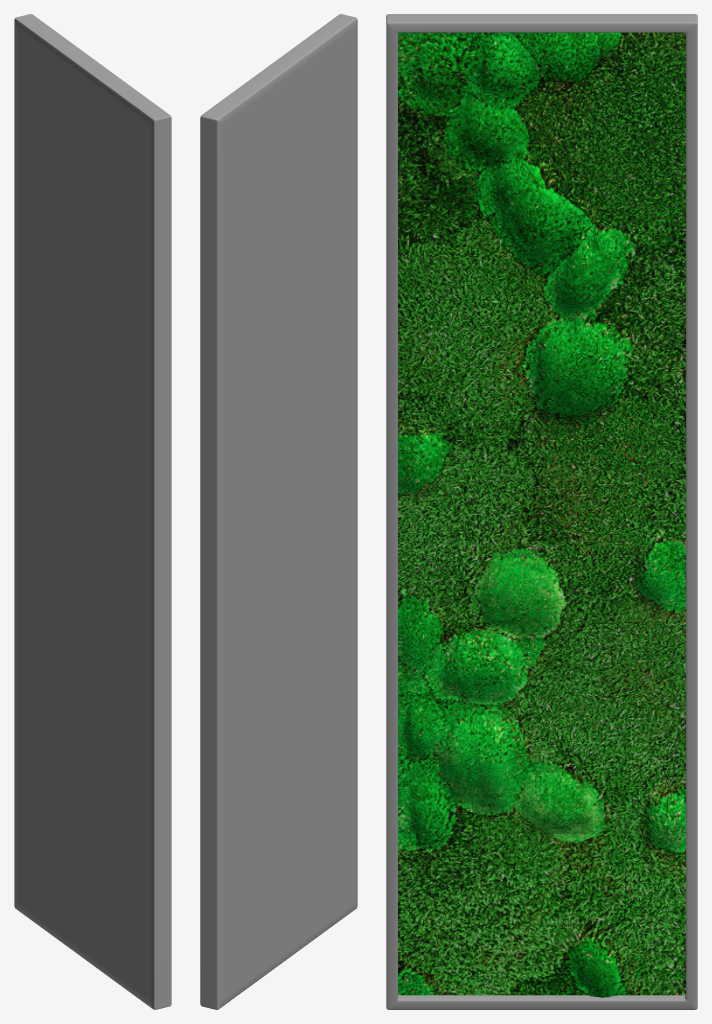
File: tablo_140x40_Mix_Moos.fbx
The picture shows the model from 3 angles, left to right: view 1: azimuth 30°, elevation 25°; view 2: azimuth 150°, elevation 25°; view 3: azimuth 270°, elevation 25°; orthographic projection. The views are drawn at different scales.
Visible parts, largest first — view 1: edge; view 2: edge; view 3: moss_low, moss_, edge.
Part boxes in pixels (x1=…): edge: x1=14, y1=14, x2=171, y2=1009; edge: x1=200, y1=14, x2=357, y2=1009; moss_low: x1=398, y1=32, x2=685, y2=995; moss_: x1=398, y1=32, x2=685, y2=997; edge: x1=386, y1=14, x2=697, y2=1009.
Size of the model in its own units: 4.77 by 140 by 40.
2 materials, 1 textured.
